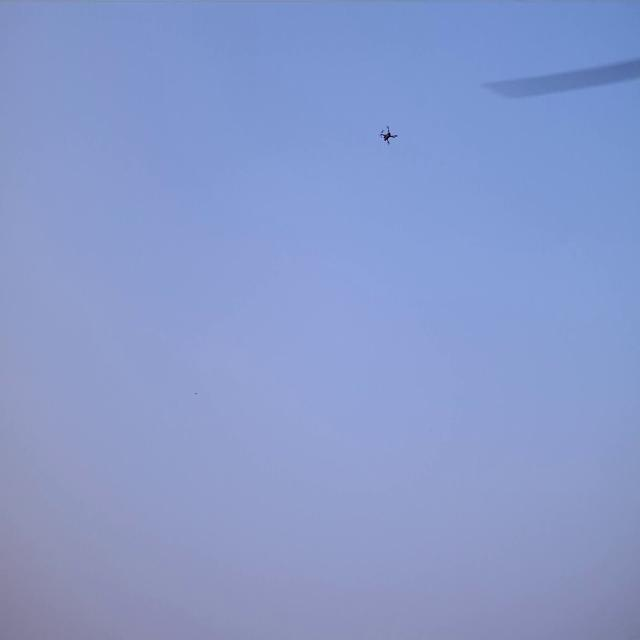UAV: (381, 127, 396, 143)
